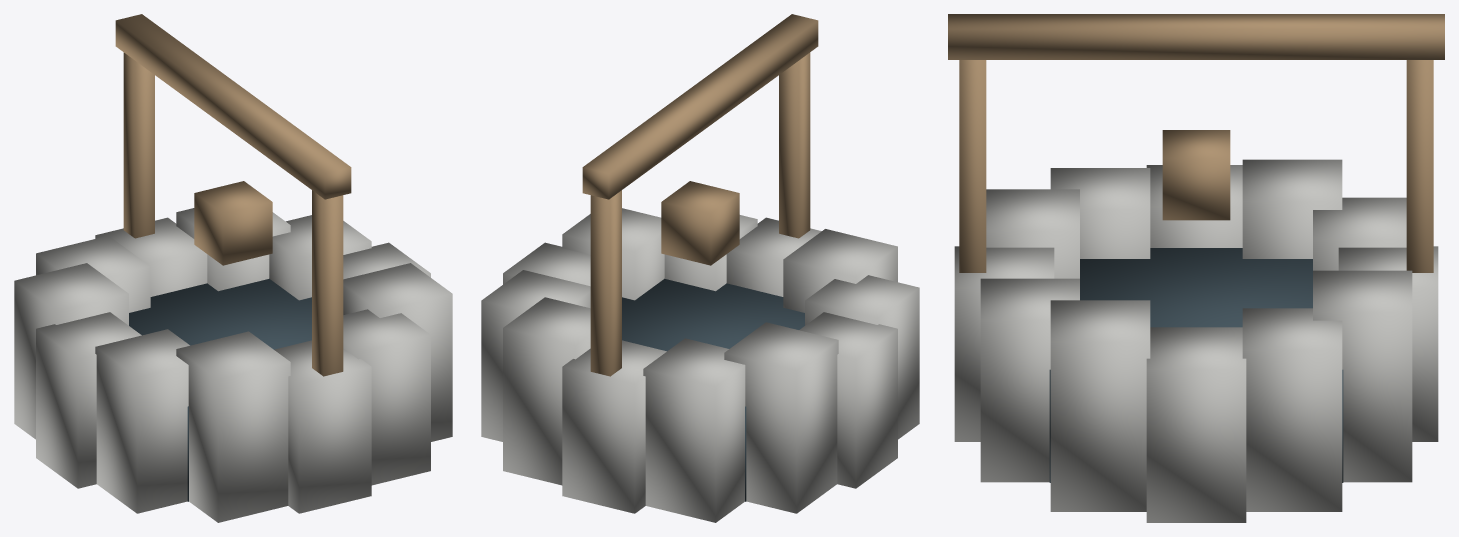
Rendered from well.glb.
3 views of the same model, side by side, from view 1: azimuth 30°, elevation 25°; view 2: azimuth 150°, elevation 25°; view 3: azimuth 270°, elevation 25° (orthographic). The views are drawn at different scales.
Parts seen in each view (by area): view 1: ring, frame, water, bucket; view 2: ring, frame, water, bucket; view 3: ring, frame, water, bucket.
Part boxes in pixels (bbox=[...]): ring: bbox=[14, 208, 452, 522]; frame: bbox=[115, 14, 351, 376]; water: bbox=[129, 278, 311, 501]; bucket: bbox=[194, 181, 272, 265]; ring: bbox=[481, 208, 919, 522]; frame: bbox=[582, 14, 818, 376]; water: bbox=[622, 278, 804, 501]; bucket: bbox=[661, 181, 739, 265]; ring: bbox=[954, 159, 1438, 522]; frame: bbox=[948, 14, 1444, 272]; water: bbox=[1049, 248, 1343, 482]; bucket: bbox=[1162, 130, 1230, 220].
Bounding box in the file's own units: 2.14 × 1.95 × 2.2.
